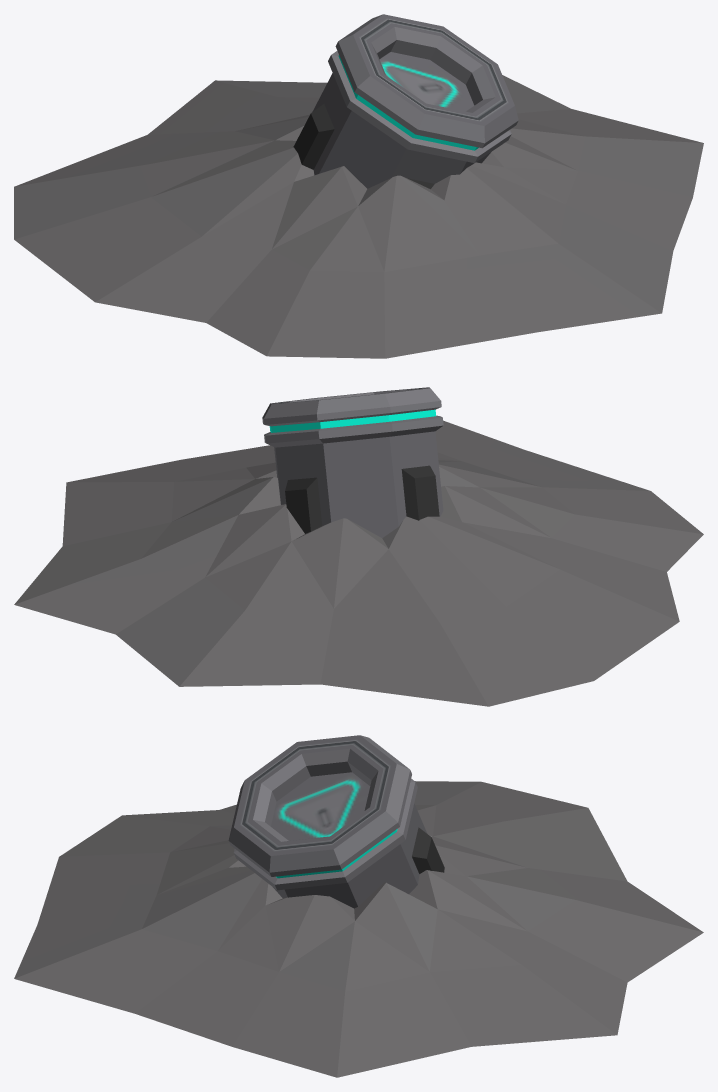
Rendered from worlds_SM_Env_Ground_Greeble_01.gltf.
The picture shows the model from 3 angles, top to bottom: view 1: azimuth 30°, elevation 25°; view 2: azimuth 150°, elevation 25°; view 3: azimuth 270°, elevation 25°; orthographic projection. The views are drawn at different scales.
Parts seen in each view (by area): view 1: SM_Env_Ground_Greeble_01; view 2: SM_Env_Ground_Greeble_01; view 3: SM_Env_Ground_Greeble_01.
Part boxes in pixels (<box>): SM_Env_Ground_Greeble_01: <box>14,14,703,358</box>; SM_Env_Ground_Greeble_01: <box>14,387,703,706</box>; SM_Env_Ground_Greeble_01: <box>14,735,703,1077</box>.
Size of the model in its own units: 1.83 by 0.5525 by 1.79.
1 material, 1 textured.
